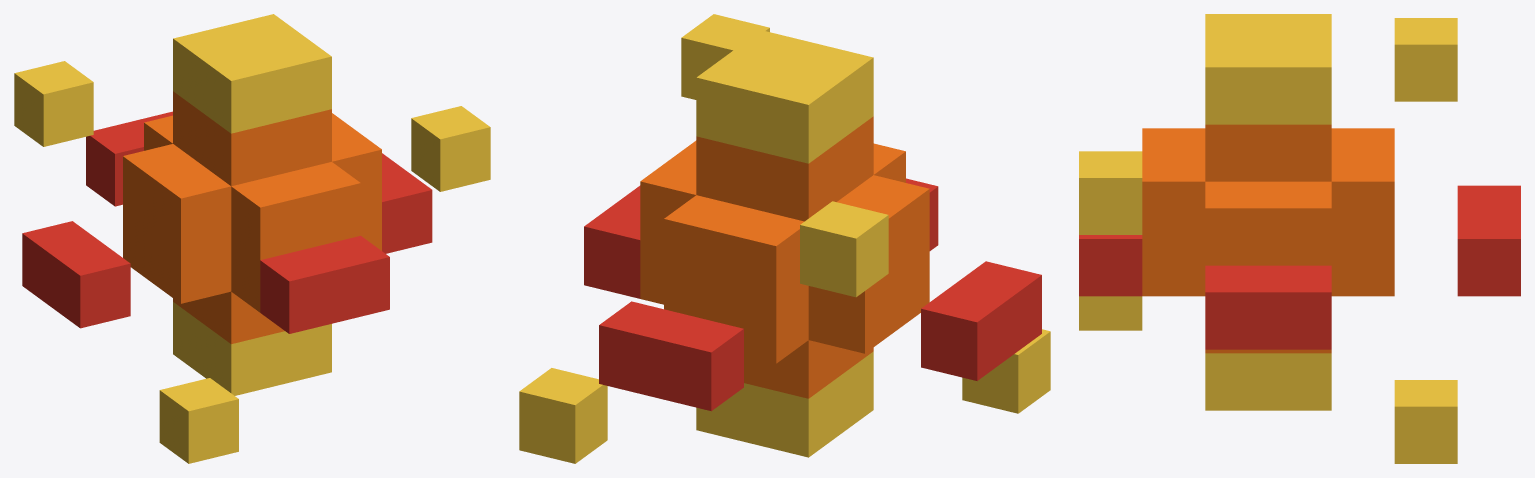
Rendered from fx_explosion.glb.
3 views of the same model, side by side, from view 1: azimuth 30°, elevation 25°; view 2: azimuth 150°, elevation 25°; view 3: azimuth 270°, elevation 25° (orthographic). The views are drawn at different scales.
Parts seen in each view (by area): view 1: Core mesh, Lick mesh, Flame mesh, Spark mesh; view 2: Core mesh, Lick mesh, Flame mesh, Spark mesh; view 3: Core mesh, Lick mesh, Flame mesh, Spark mesh.
Part boxes in pixels (x1,y1,x2,y2): Core mesh: (123,91,381,344); Lick mesh: (22,111,432,333); Flame mesh: (173,14,331,395); Spark mesh: (14,61,490,463); Core mesh: (640,116,929,398); Lick mesh: (584,178,1041,411); Flame mesh: (696,30,873,457); Spark mesh: (519,14,1050,463); Core mesh: (1142,124,1394,353); Lick mesh: (1079,185,1520,349); Flame mesh: (1205,14,1331,410); Spark mesh: (1079,18,1457,463).
Bounding box in the file's own units: 7 × 6 × 7.
1 material, 1 textured.
